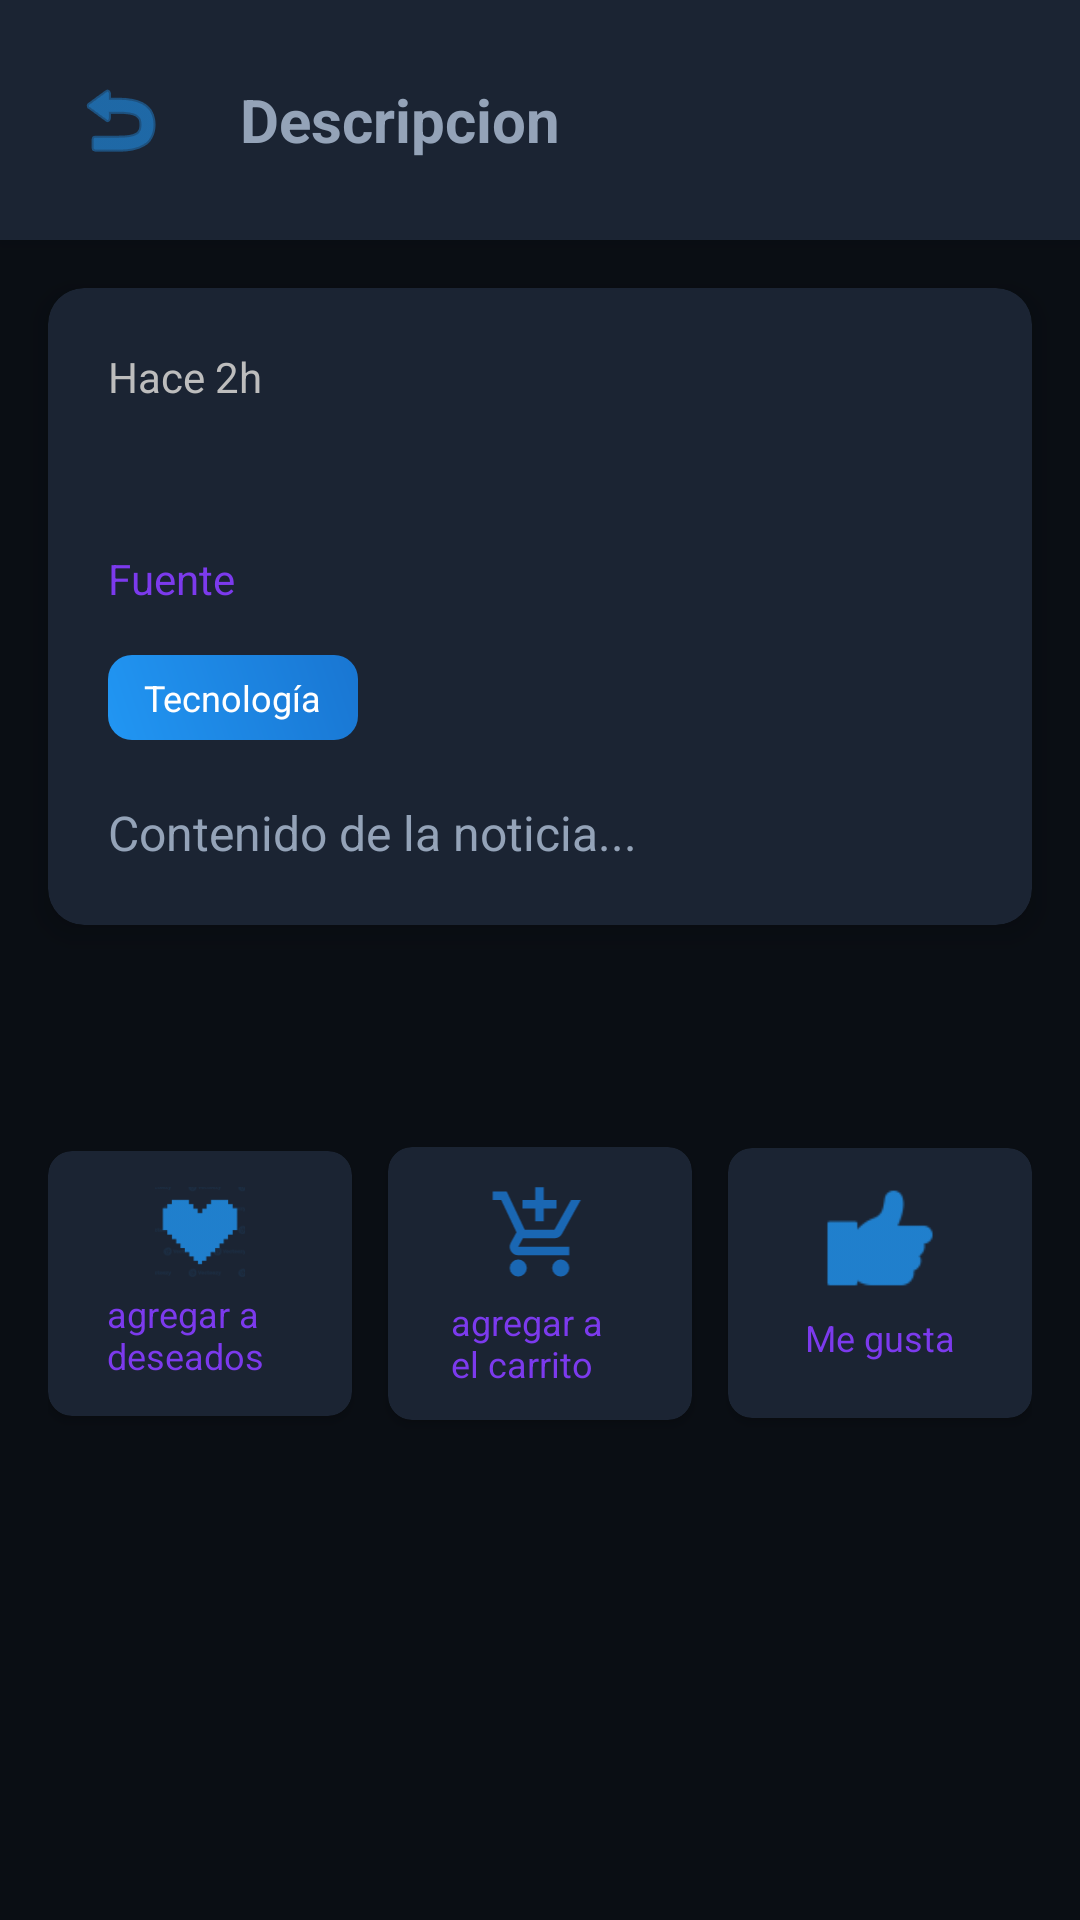

Icon click points for this 1080 × 1920 phone screenshot, format (x,y):
cart add two: (536,1232)
corazon two: (200,1232)
Regresar: (121,120)
